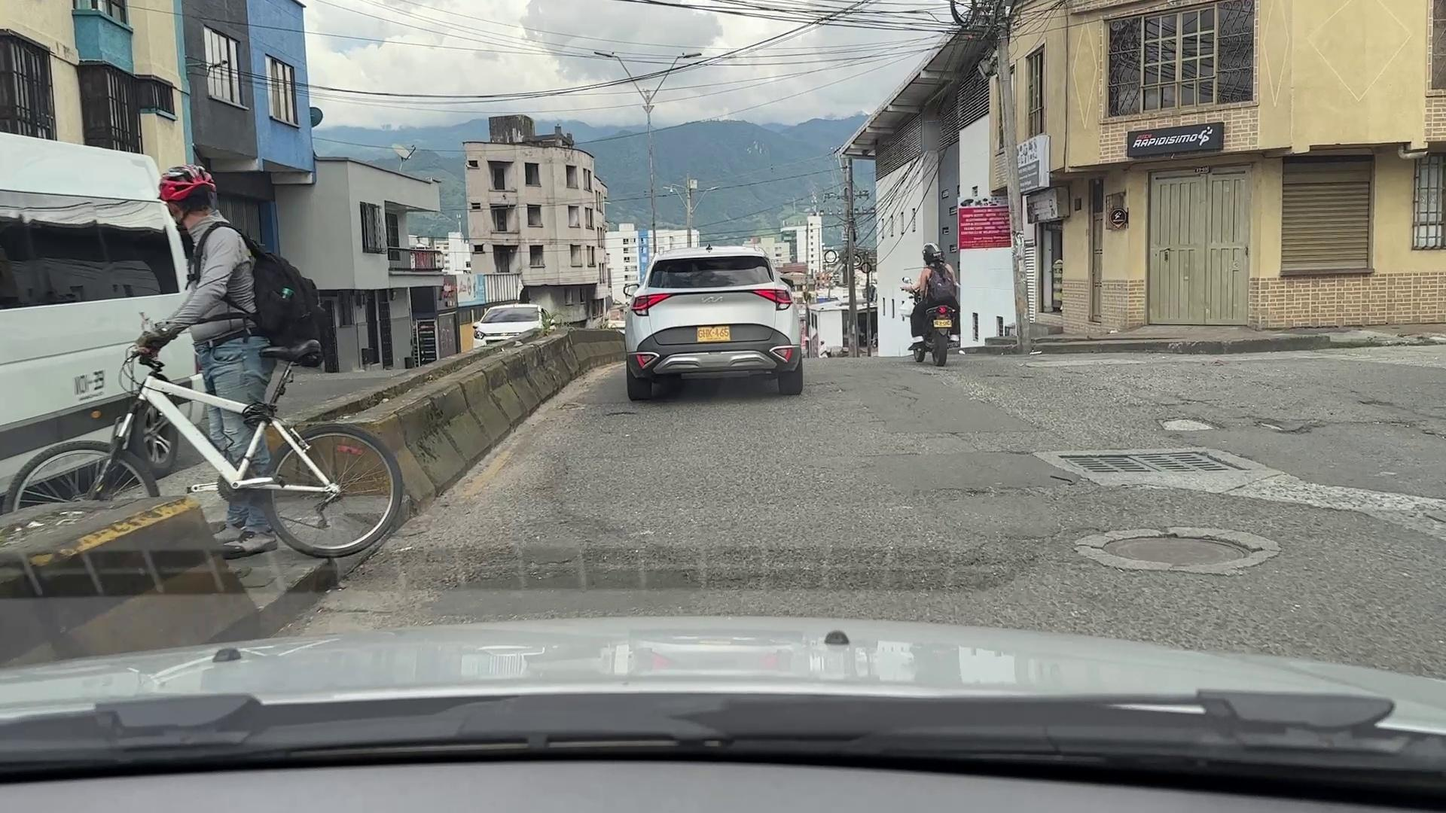bache: (1162, 419, 1213, 431), (1261, 422, 1303, 431), (607, 412, 635, 415)
registro: (1104, 537, 1249, 564)
rejilla: (1061, 451, 1246, 473)
